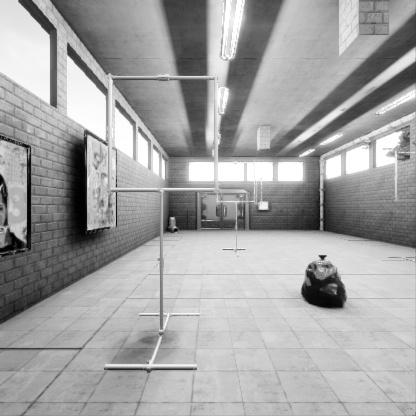gate: (114, 228, 224, 338), (218, 215, 257, 254), (398, 217, 416, 266), (256, 212, 262, 238)
